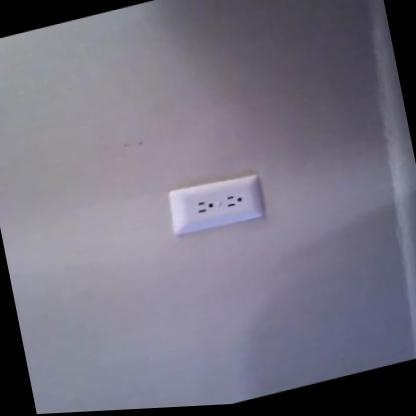OUTLET: (166, 167, 266, 238)
